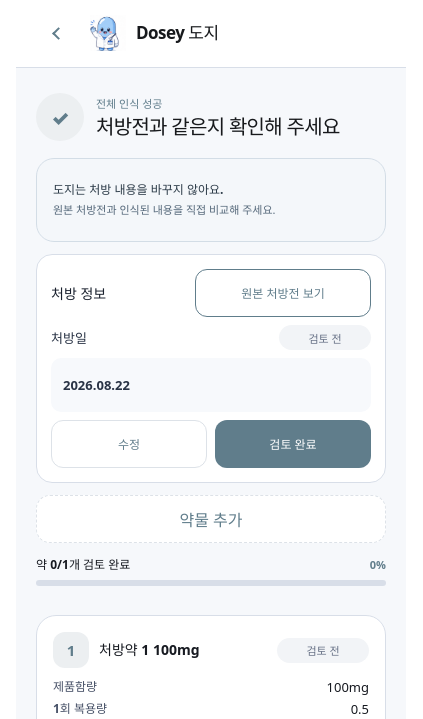
Test: PrescriptionReviewPage confirmation gate › STATE-03과 STATE-04는 전체 검토 후에도 사용자의 원본 대조 선택을 요구한다
Click the button "검토 완료" at (293, 444), box [215,420,371,468]
(page scrolled)
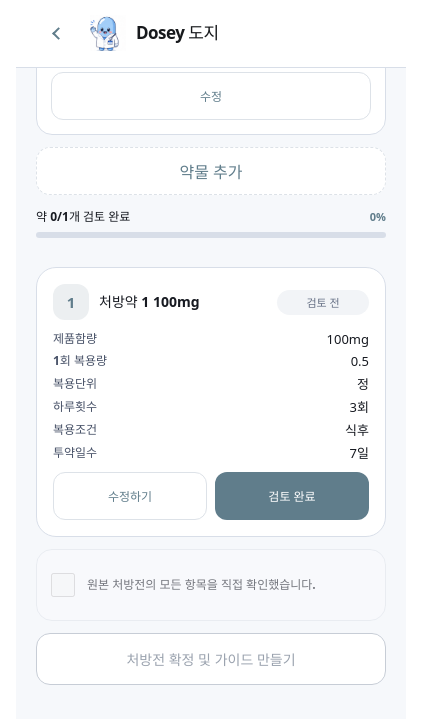
Click the button "검토 완료" at (292, 496), box [215,472,369,520]
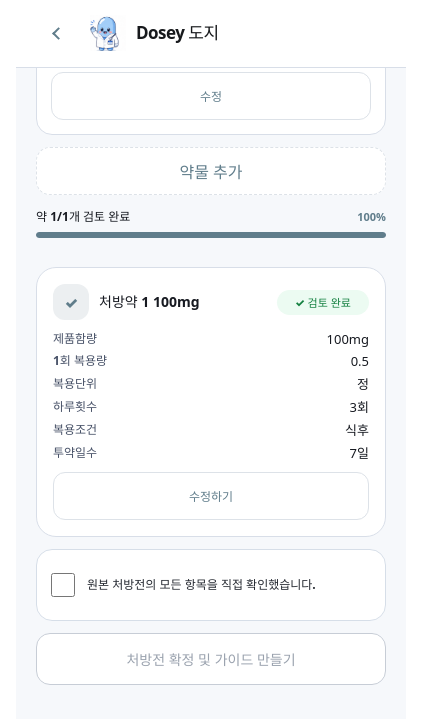
Expected: the checkbox is not checked
Expected: the button "처방전 확정 및 가이드 만들기" is disabled, [36,633,386,685]
Expected: the checkbox is enabled
Click the checkbox at (63, 585), box [51,573,75,597]
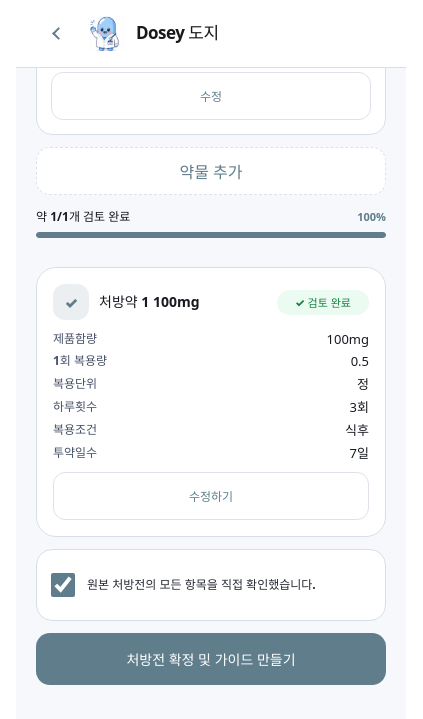
Expected: the checkbox is checked, [51,573,75,597]
Expected: the text "원본 처방전의 모든 항목을 직접 확인했습니다." is shown, [87,576,316,594]
Expected: the button "처방전 확정 및 가이드 만들기" is enabled, [36,633,386,685]
